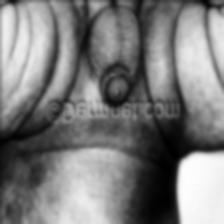Toxin: (104, 0, 144, 97), (122, 173, 169, 224)
